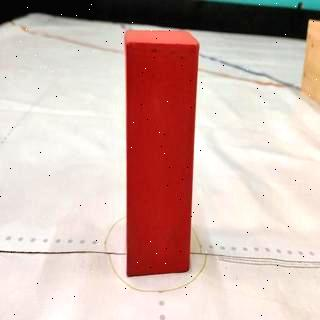redbox: (124, 29, 200, 278)
